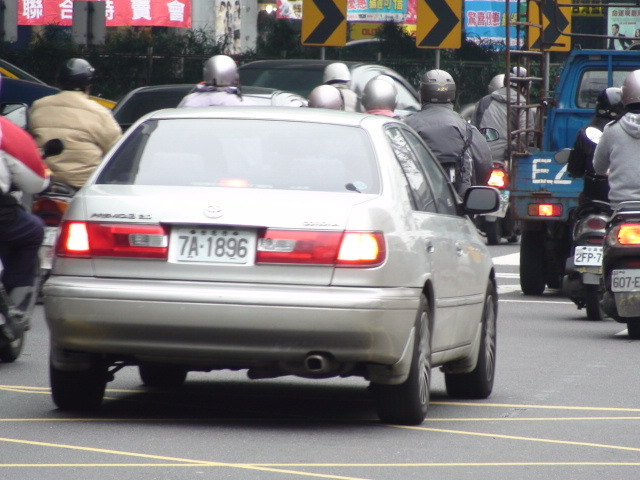plate: (174, 227, 253, 265), (609, 265, 639, 293), (573, 242, 605, 267)
